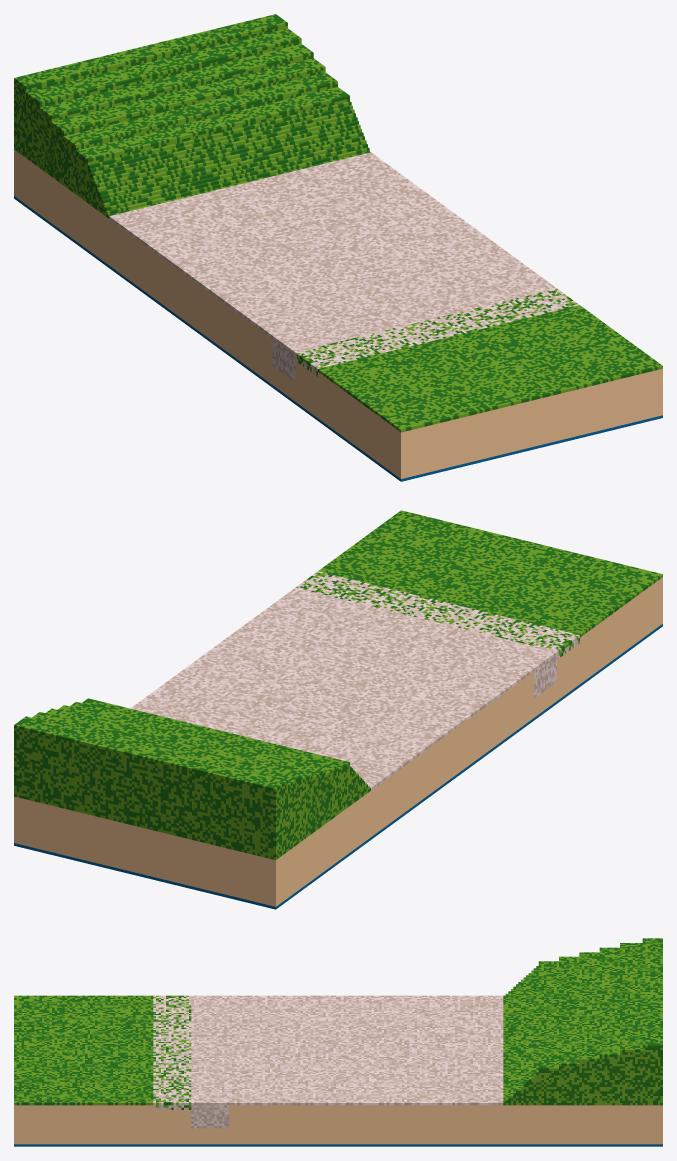
The model's file is castelloVillafranca-31.obj.
3 renders of one model, top to bottom at view 1: azimuth 30°, elevation 25°; view 2: azimuth 150°, elevation 25°; view 3: azimuth 270°, elevation 25°, orthographic. The views are drawn at different scales.
Bounding box in the file's own units: 10 × 4.4 × 25.6.
Materials: 1 (1 with a texture image).
